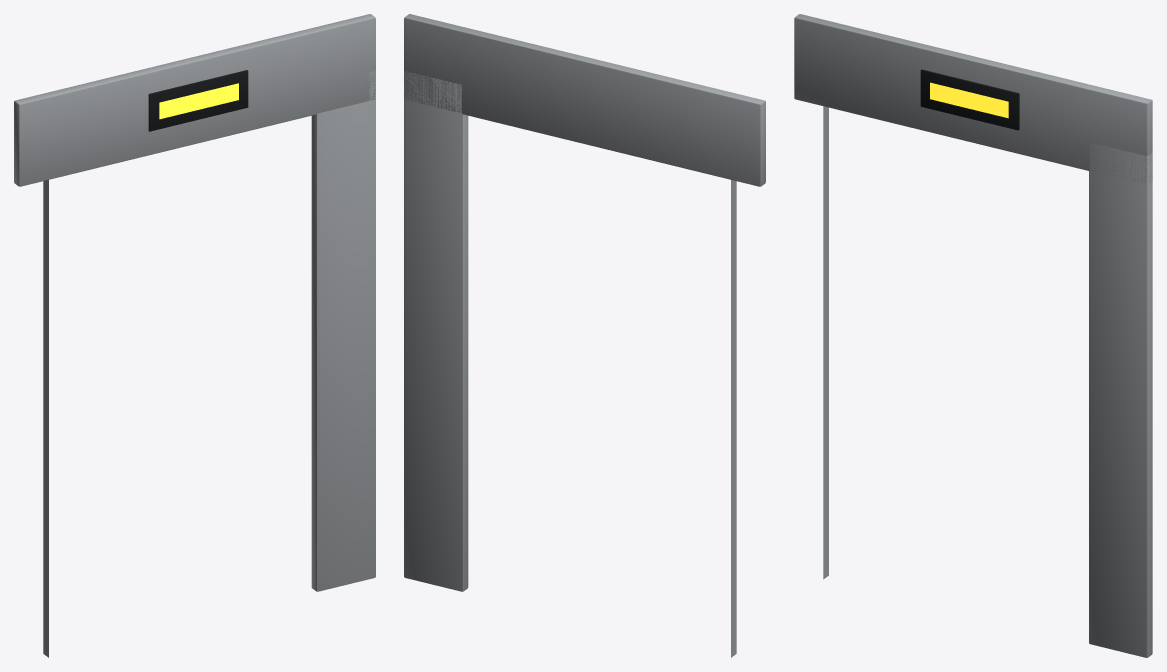
The model's file is vantage_lift_frame.glb.
3 views of the same model, side by side, from view 1: azimuth 30°, elevation 25°; view 2: azimuth 150°, elevation 25°; view 3: azimuth 330°, elevation 25° (orthographic).
Visible parts, largest first — view 1: vantage_lift_frame; view 2: vantage_lift_frame; view 3: vantage_lift_frame.
Boxes of the visible parts, x1=… form: vantage_lift_frame: x1=14, y1=14, x2=375, y2=657; vantage_lift_frame: x1=404, y1=14, x2=765, y2=657; vantage_lift_frame: x1=794, y1=14, x2=1152, y2=657.
Bounding box in the file's own units: 1.8 × 2.7 × 0.062.
